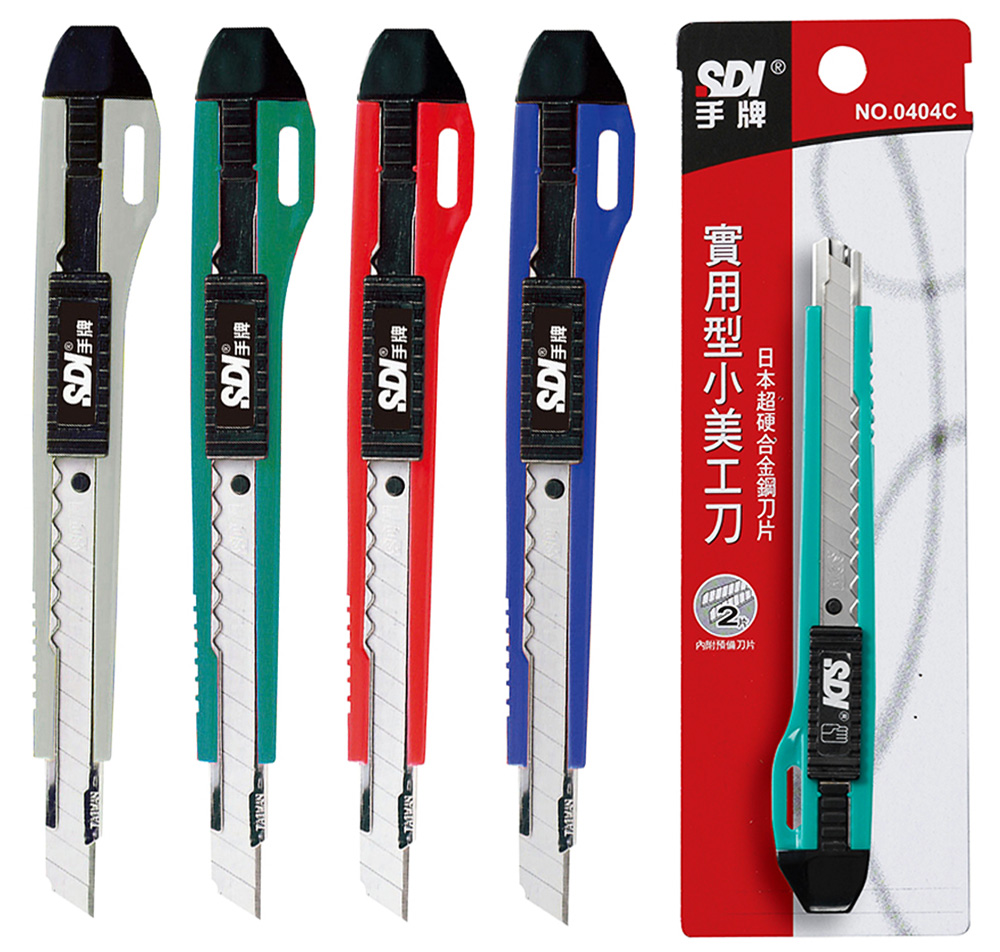cutter: (340, 29, 477, 931), (28, 24, 165, 920), (184, 26, 318, 926), (504, 28, 636, 930), (766, 237, 876, 918)
